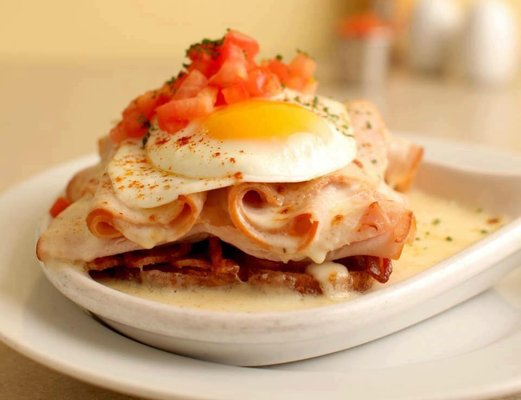soup: (28, 26, 424, 325)
sushi: (3, 28, 520, 371)
